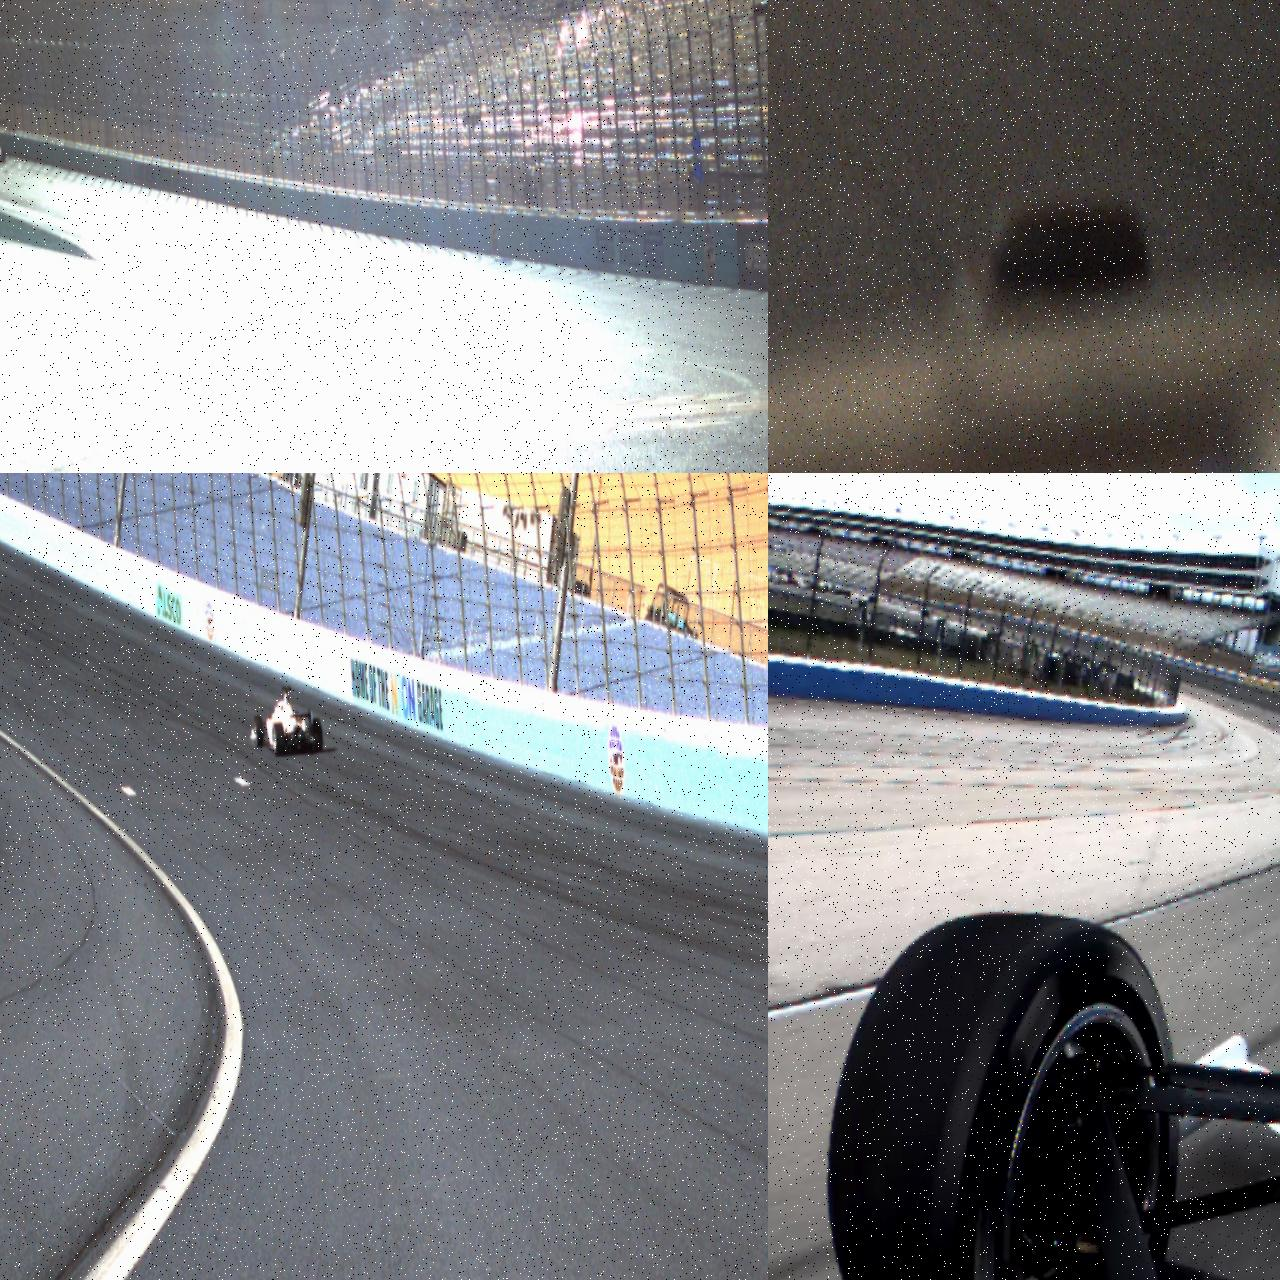AV: (246, 683, 324, 757)
Wheel: (813, 903, 1199, 1280), (309, 717, 324, 753), (271, 722, 285, 756), (253, 715, 264, 745), (1, 150, 6, 162)
